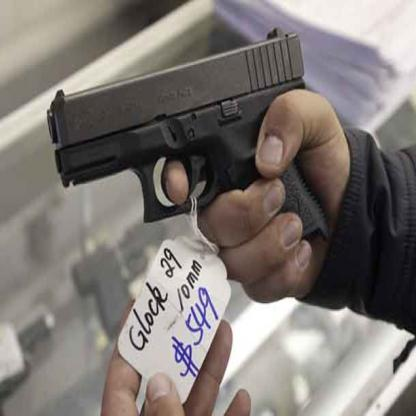handgun: (51, 29, 326, 270)
